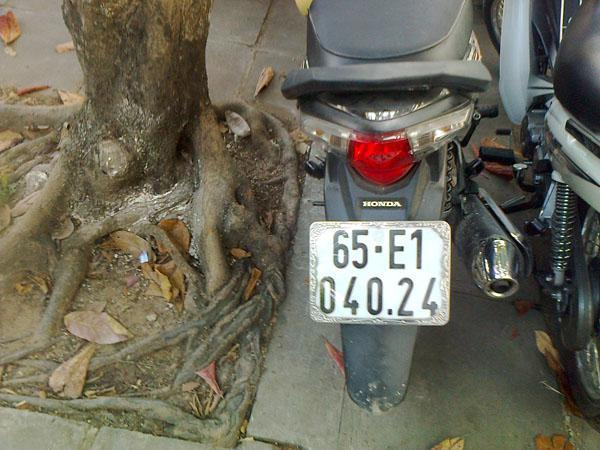License_Plate: (308, 223, 444, 322)
